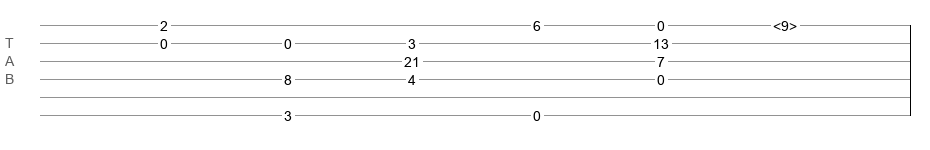0: (160, 36, 168, 46), (284, 36, 292, 46), (533, 108, 541, 118), (657, 72, 665, 82), (657, 18, 665, 28)
13: (653, 36, 669, 46)
2: (160, 18, 168, 28)
21: (404, 54, 420, 64)
3: (284, 108, 292, 118), (408, 36, 416, 46)
4: (408, 72, 416, 82)
6: (533, 18, 541, 28)
7: (657, 54, 665, 64)
8: (284, 72, 292, 82)
harmonic: (773, 18, 797, 28)
